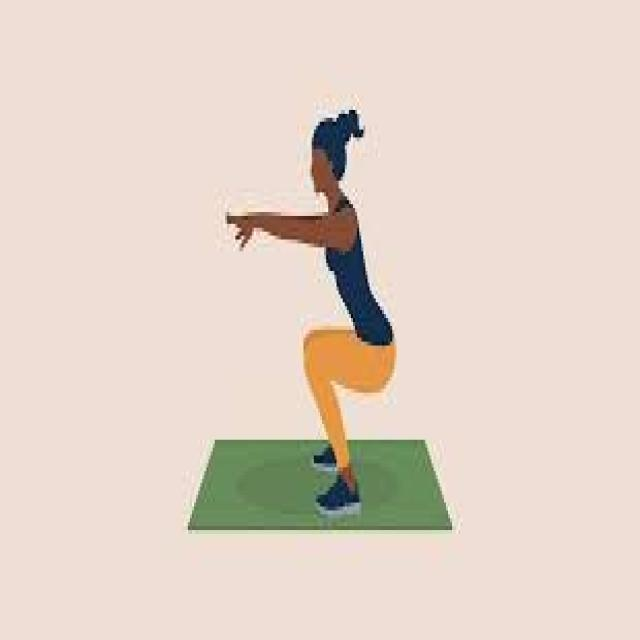squat: (225, 104, 396, 513)
